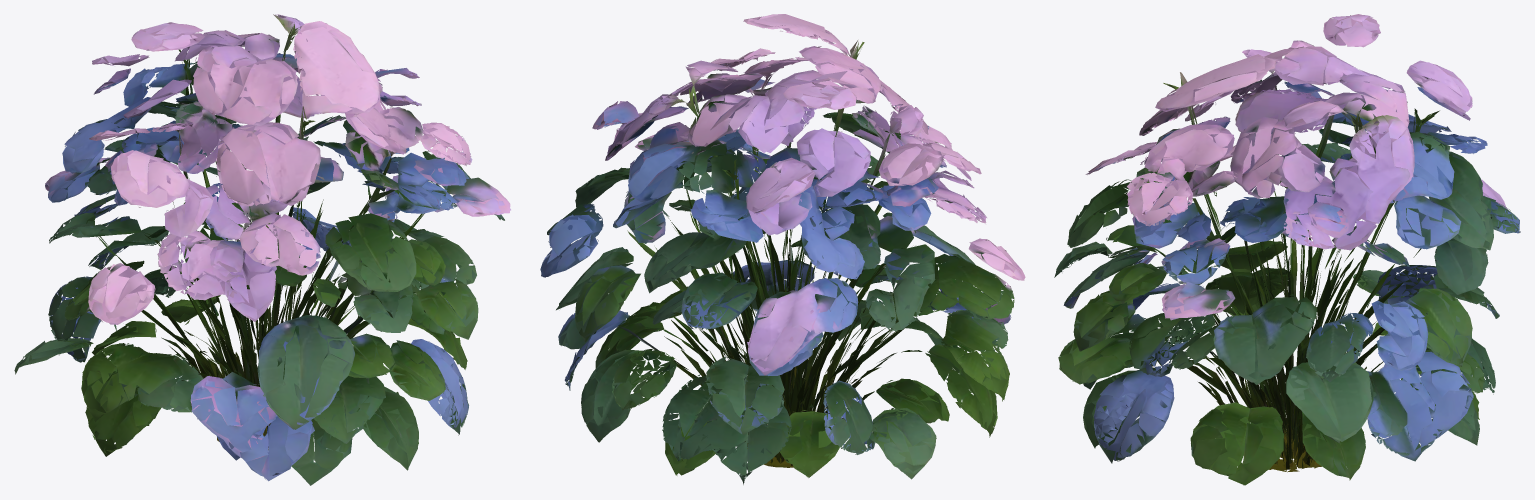
Rendered from hydrangea.glb.
The picture shows the model from 3 angles, left to right: view 1: azimuth 30°, elevation 25°; view 2: azimuth 150°, elevation 25°; view 3: azimuth 270°, elevation 25°; orthographic projection.
Parts seen in each view (by area): view 1: node_0; view 2: node_0; view 3: node_0.
Boxes of the visible parts, left/top/right/bottom form: node_0: left=14, top=14, right=510, bottom=485; node_0: left=540, top=14, right=1025, bottom=484; node_0: left=1054, top=14, right=1520, bottom=485.
Size of the model in its own units: 0.9906 by 0.9111 by 0.9365.
1 material, 1 textured.
